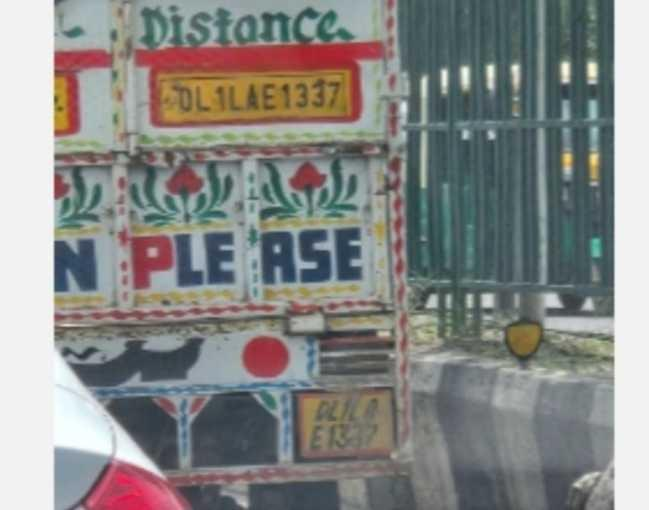License plate: (298, 389, 392, 457)
